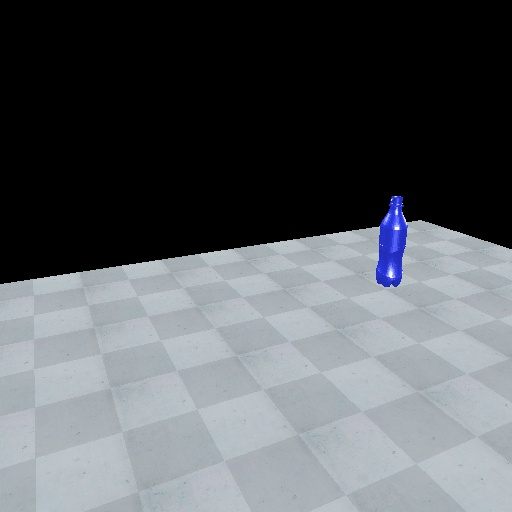bottle: (375, 194, 409, 289)
